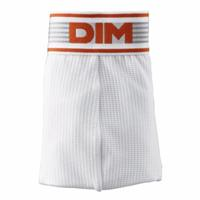mutande: (38, 9, 161, 191)
